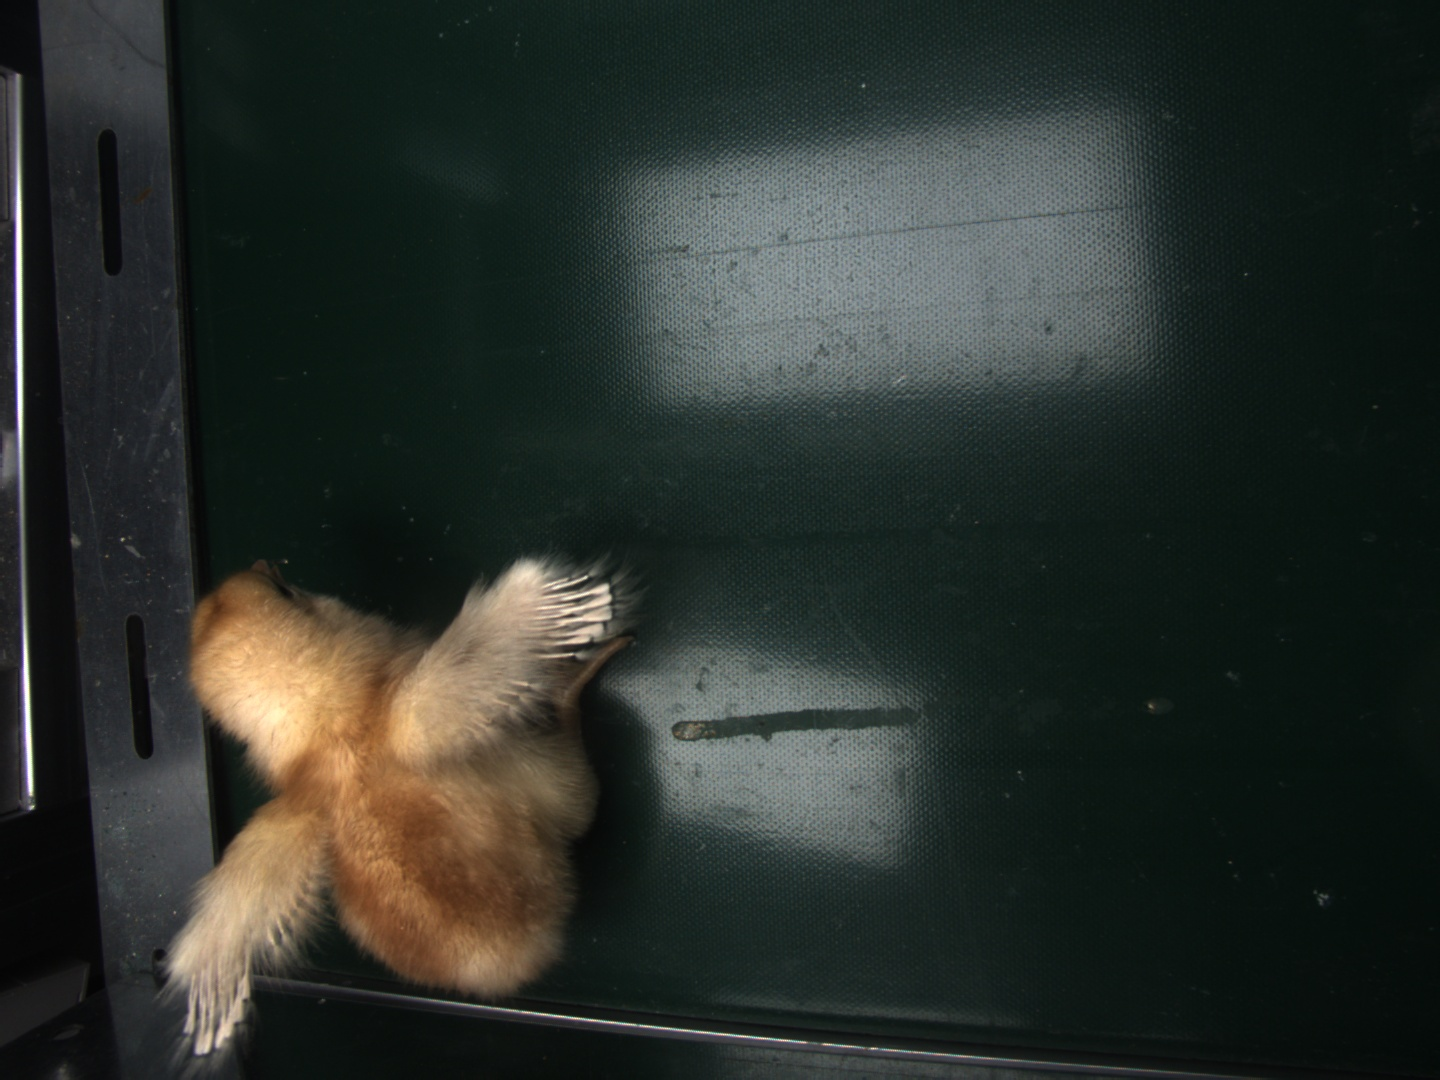female: (532, 573, 612, 663)
